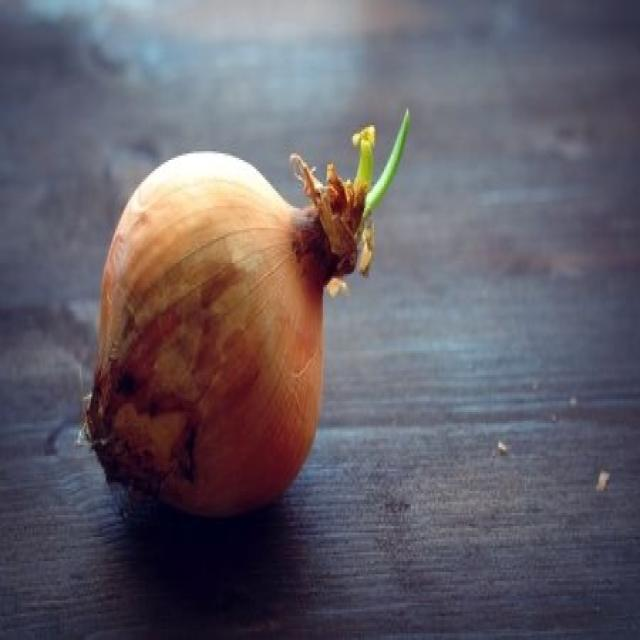sprouting: (84, 98, 414, 538)
